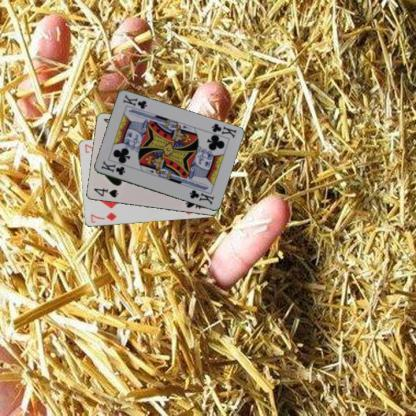4s: (91, 185, 119, 199)
7d: (88, 210, 118, 224)
Kc: (208, 121, 238, 140), (98, 158, 126, 177)
